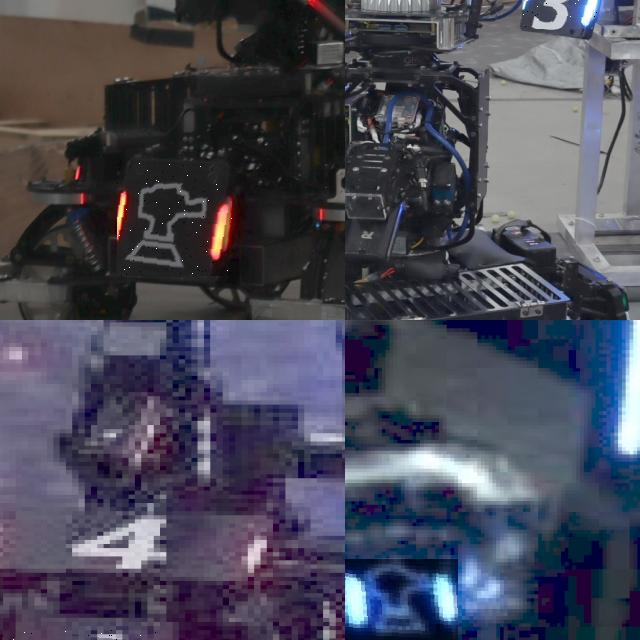B3: (521, 0, 597, 29)
Bs: (345, 558, 458, 640)
Rs: (117, 161, 234, 276)
